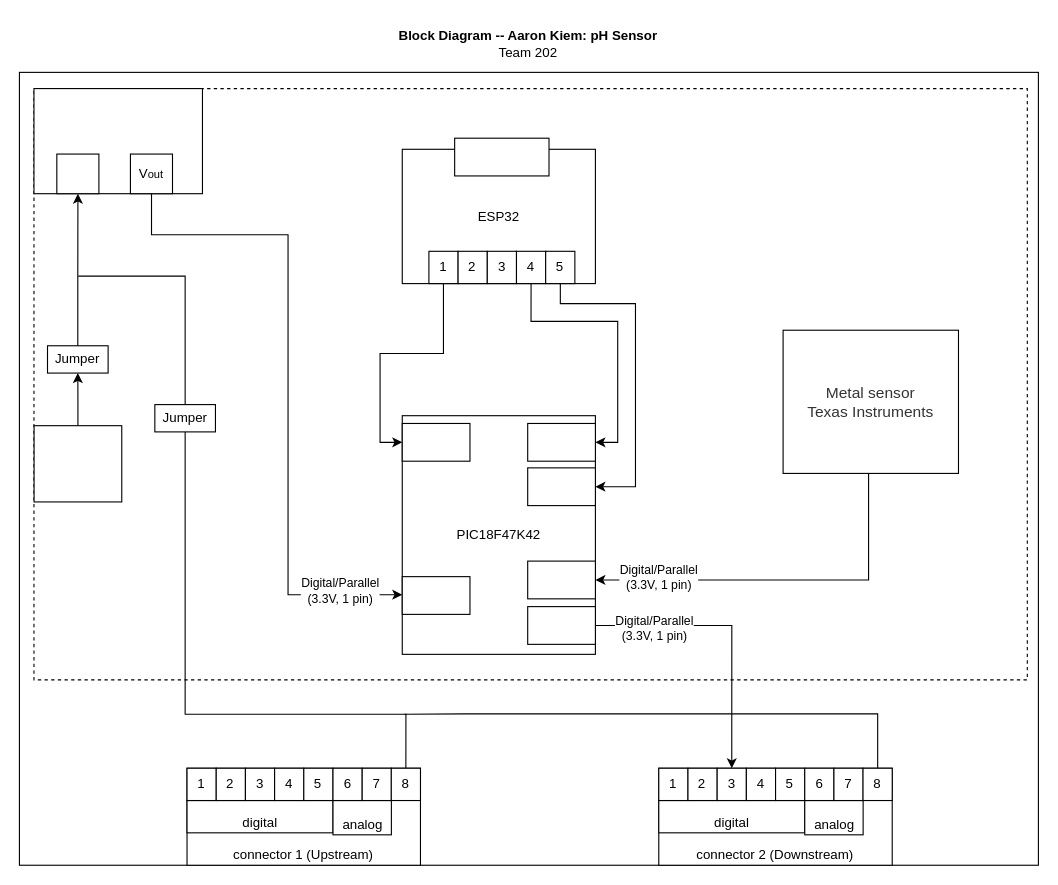
This 1058x885 diagram has some shape labels left out. Here are the shapes that lost their labels. From the top down, the box of each, then its label:
(33, 87, 202, 194): 3.3V Switching Power
(454, 137, 549, 176): Connector
(56, 153, 99, 194): V in
(401, 422, 470, 461): V pp /RE3
(527, 422, 595, 461): ICSPDAT
(33, 425, 122, 502): DC Barrel Jack
(527, 467, 595, 506): ICSPCLK
(401, 576, 470, 614): SPI
(527, 560, 595, 599): RB2
(527, 606, 595, 644): RC4
